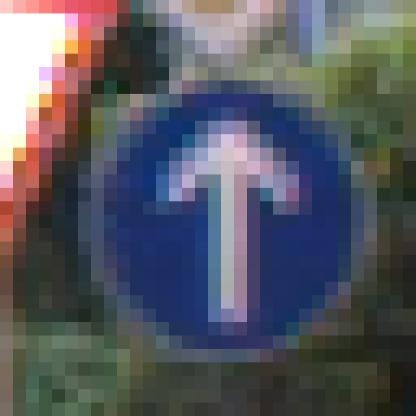AheadOnly: (79, 68, 339, 337)
